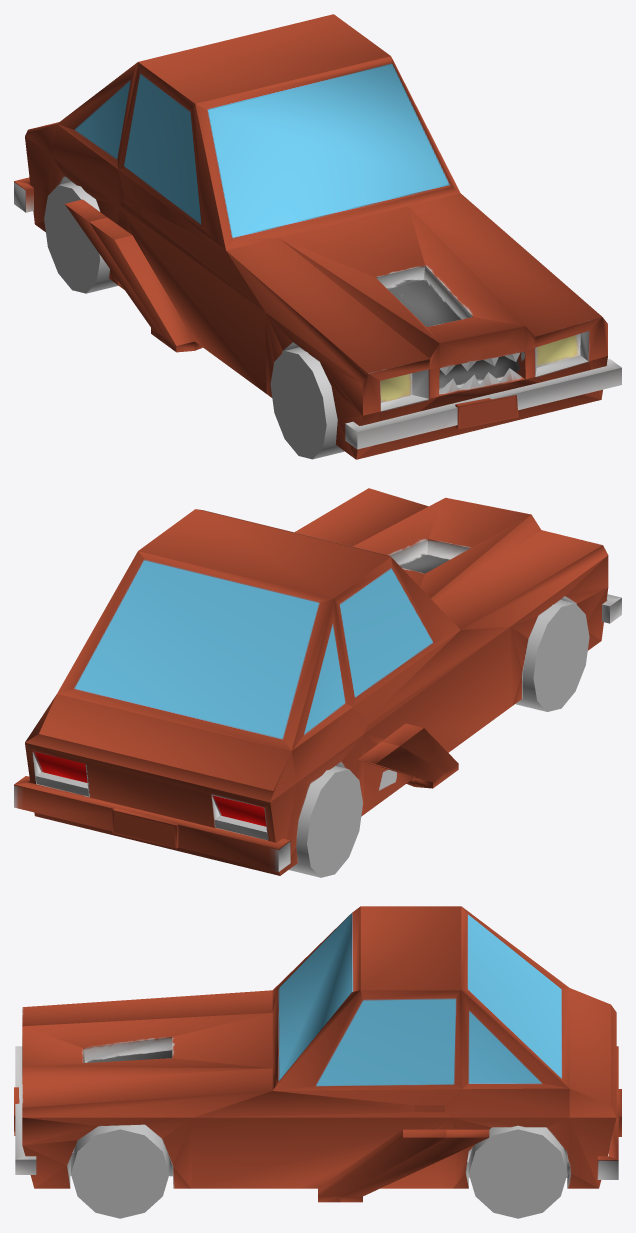
Rendered from CannibalCar_v07.fbx.
The picture shows the model from 3 angles, top to bottom: view 1: azimuth 30°, elevation 25°; view 2: azimuth 150°, elevation 25°; view 3: azimuth 270°, elevation 25°; orthographic projection. The views are drawn at different scales.
Visible parts, largest first — view 1: CarD3, TireFR, TireBR; view 2: CarD3, TireFR, TireBR; view 3: CarD3, TireFL, TireBL.
Boxes of the visible parts, <box> form: CarD3: <box>14,14,621,459</box>; TireFR: <box>270,347,344,459</box>; TireBR: <box>44,181,117,293</box>; CarD3: <box>14,488,621,875</box>; TireFR: <box>515,600,589,711</box>; TireBR: <box>289,766,362,877</box>; CarD3: <box>14,906,621,1202</box>; TireFL: <box>71,1124,169,1218</box>; TireBL: <box>468,1125,567,1218</box>.
Bounding box in the file's own units: 357 × 267 × 688.
